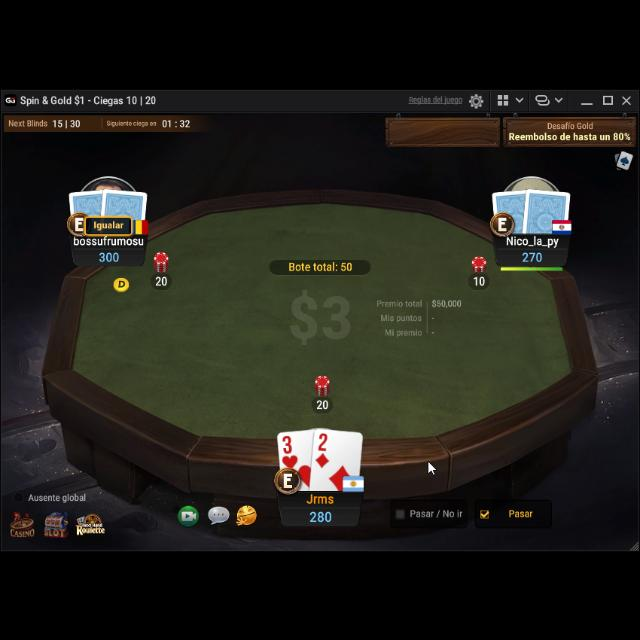2d: (314, 429, 332, 469)
3h: (281, 432, 299, 470), (280, 432, 300, 466)
bet_text: (315, 397, 329, 408), (474, 274, 486, 286), (156, 274, 168, 284)
card_back: (522, 183, 572, 233), (98, 183, 148, 230), (491, 184, 535, 232), (66, 186, 110, 228)
dealer: (111, 272, 131, 292)
pot_text: (286, 257, 354, 271)
stack_text: (307, 504, 333, 522), (520, 247, 544, 261), (98, 247, 120, 261)
